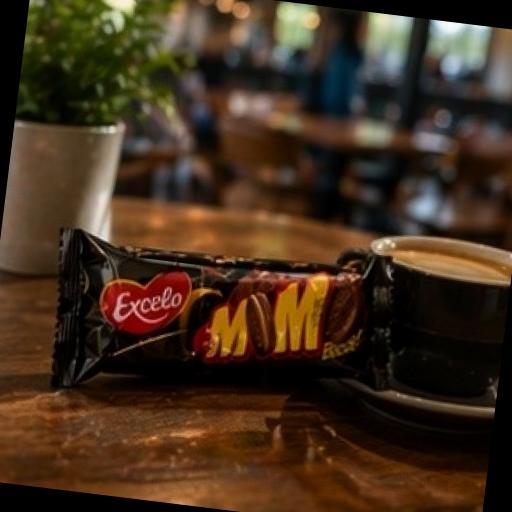MOMO: (0, 148, 453, 447)
